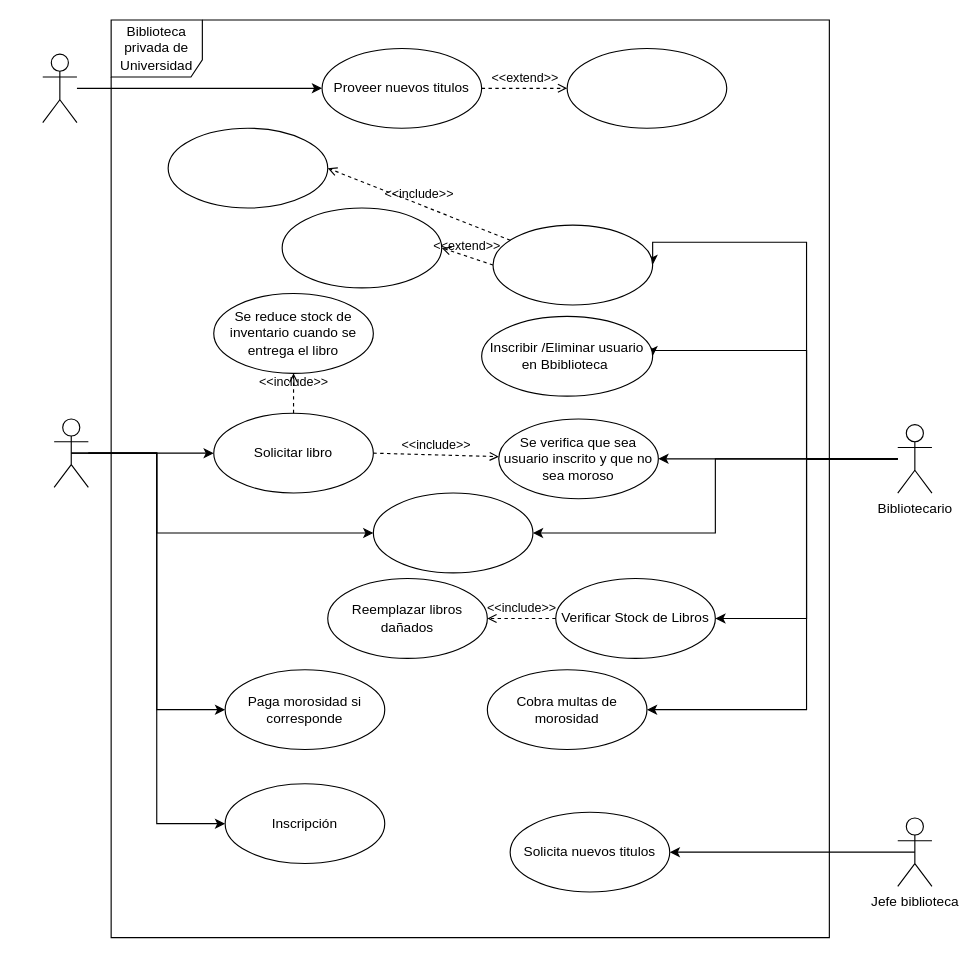
The diagram is 978 pixels wide and 958 high, and some of its shapes have lost their labels. Each missing label, with the centre of its shape:
Consultar disponibilidad: the point at 452,532
Crea políticas de prestamo: the point at 361,247
Proveedores: the point at 59,88
Realiza recomendacion de los siguientes titulos a adquirir: the point at 646,87
Realizar prestamos de libros: the point at 572,264
Recibir libro prestado: the point at 247,167
Solicitante: the point at 70,452
